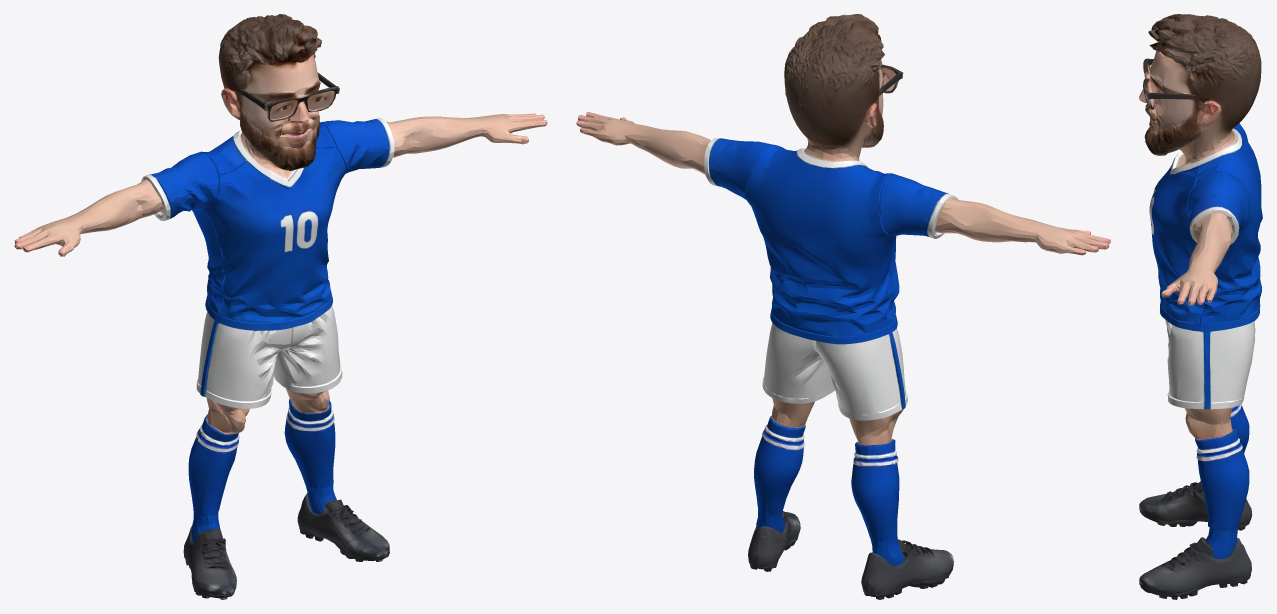
The model's file is striker.glb.
The picture shows the model from 3 angles, left to right: view 1: azimuth 30°, elevation 25°; view 2: azimuth 150°, elevation 25°; view 3: azimuth 270°, elevation 25°; orthographic projection.
Parts seen in each view (by area): view 1: model; view 2: model; view 3: model.
Boxes of the visible parts, box(x1,y1,x2,y2) form: model: box(14, 14, 547, 599); model: box(576, 14, 1110, 599); model: box(1139, 14, 1262, 599).
Bounding box in the file's own units: 1.9 × 1.88 × 0.3899.
1 material, 1 textured.
